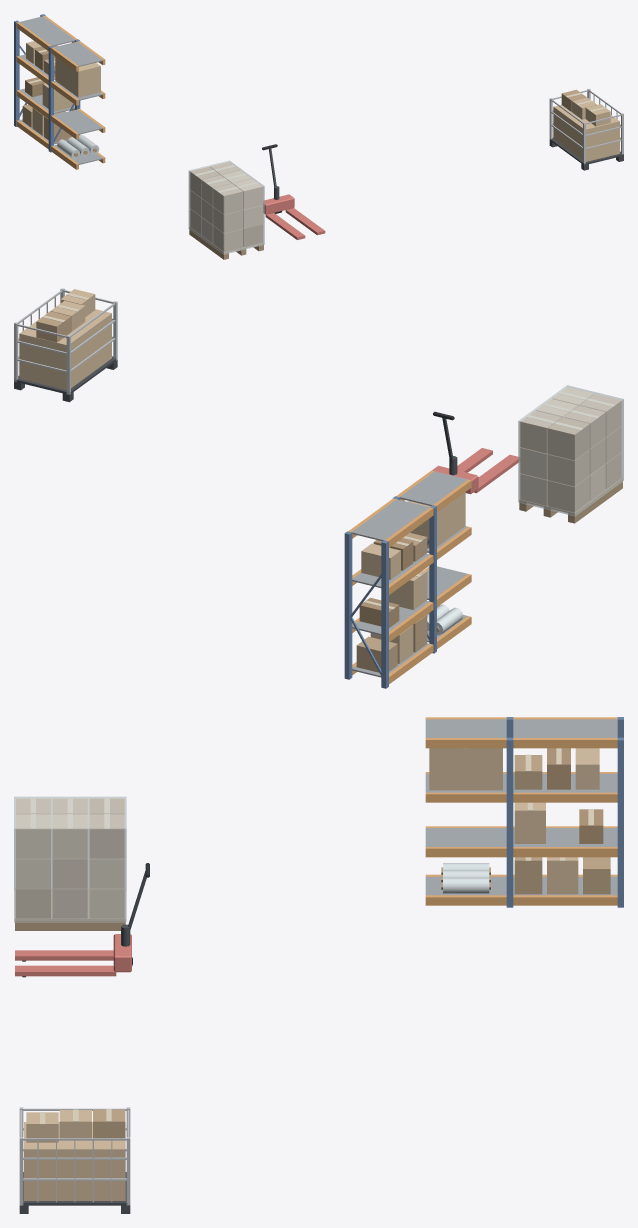
File: einrichtung_packhalle_buehne.glb
The picture shows the model from 3 angles, top to bottom: view 1: azimuth 30°, elevation 25°; view 2: azimuth 150°, elevation 25°; view 3: azimuth 270°, elevation 25°; orthographic projection. The views are drawn at different scales.
Visible parts, largest first — view 1: einrichtung_packhalle_buehne; view 2: einrichtung_packhalle_buehne; view 3: einrichtung_packhalle_buehne.
Boxes of the visible parts, x1,y1,x2,y2 form: einrichtung_packhalle_buehne: (14, 14, 623, 259); einrichtung_packhalle_buehne: (14, 288, 623, 688); einrichtung_packhalle_buehne: (14, 717, 623, 1213).
Size of the model in its own units: 8.45 by 2 by 6.61.
